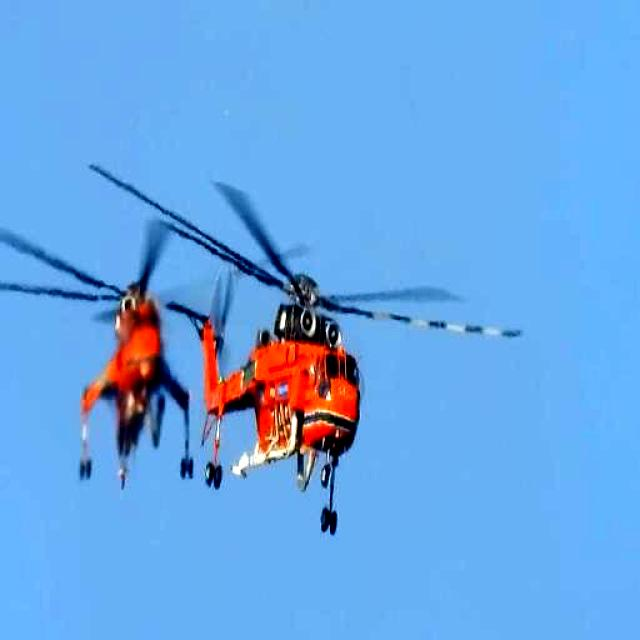drone: (89, 155, 525, 541), (0, 212, 311, 485)
